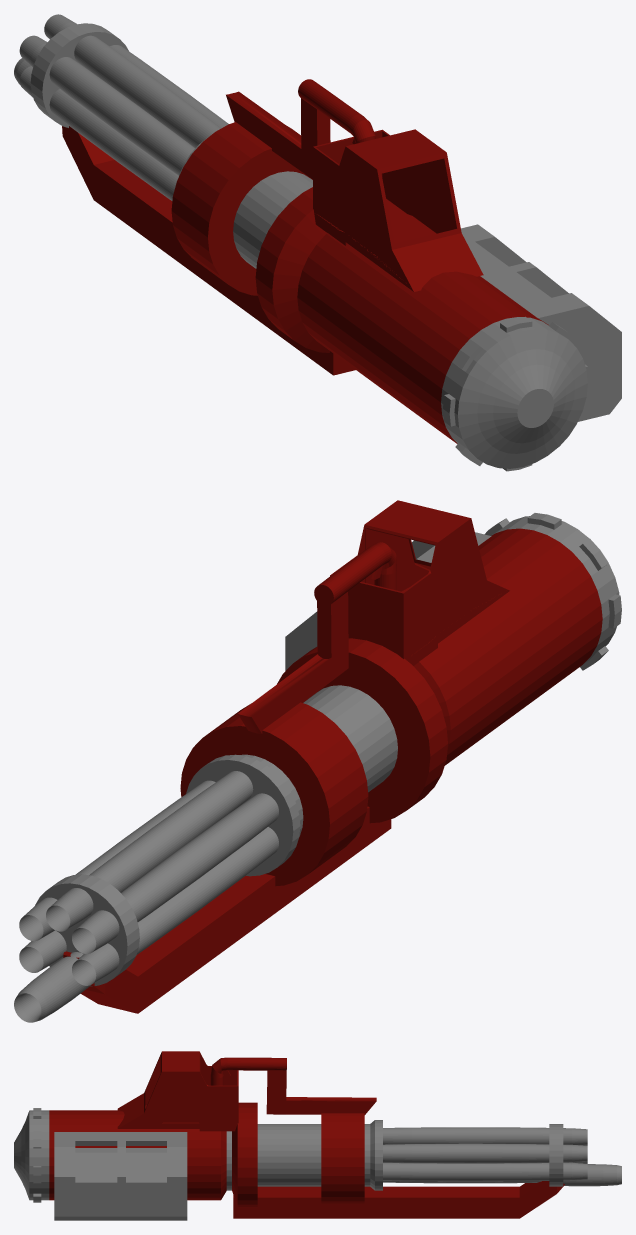
Rendered from AssaultCannon2.fbx.
3 renders of one model, top to bottom at view 1: azimuth 30°, elevation 25°; view 2: azimuth 150°, elevation 25°; view 3: azimuth 270°, elevation 25°, orthographic. The views are drawn at different scales.
Visible parts, largest first — view 1: Body1, GunBarrel.003, AmmoBox; view 2: Body1, GunBarrel.003, AmmoBox; view 3: Body1, GunBarrel.003, AmmoBox.
Boxes of the visible parts, bbox=[...] form: Body1: bbox=[62, 79, 589, 471]; GunBarrel.003: bbox=[14, 14, 312, 268]; AmmoBox: bbox=[461, 224, 621, 421]; Body1: bbox=[63, 500, 621, 1013]; GunBarrel.003: bbox=[14, 685, 397, 1022]; AmmoBox: bbox=[285, 532, 491, 670]; Body1: bbox=[14, 1051, 564, 1218]; GunBarrel.003: bbox=[257, 1120, 621, 1190]; AmmoBox: bbox=[54, 1132, 187, 1220].
Size of the model in its own units: 204 by 914 by 257.
